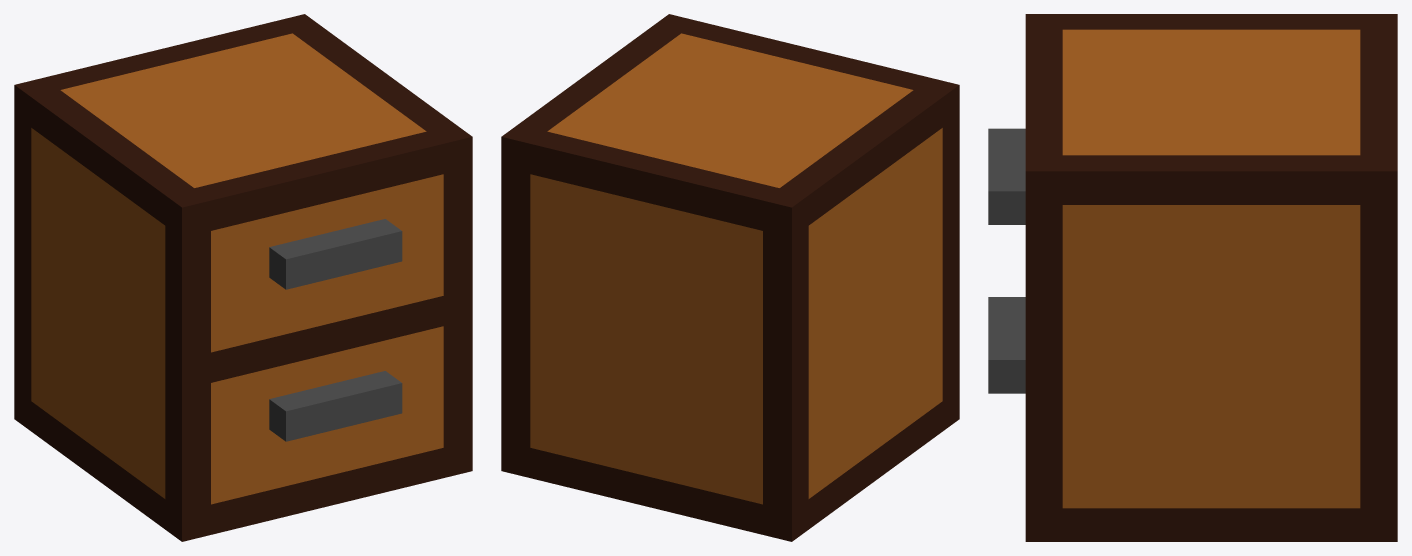
Rendered from Bedside table2.obj.
3 views of the same model, side by side, from view 1: azimuth 30°, elevation 25°; view 2: azimuth 150°, elevation 25°; view 3: azimuth 270°, elevation 25° (orthographic). The views are drawn at different scales.
Bounding box in the file's own units: 1 × 1.1 × 1.1.
1 material, 1 textured.
